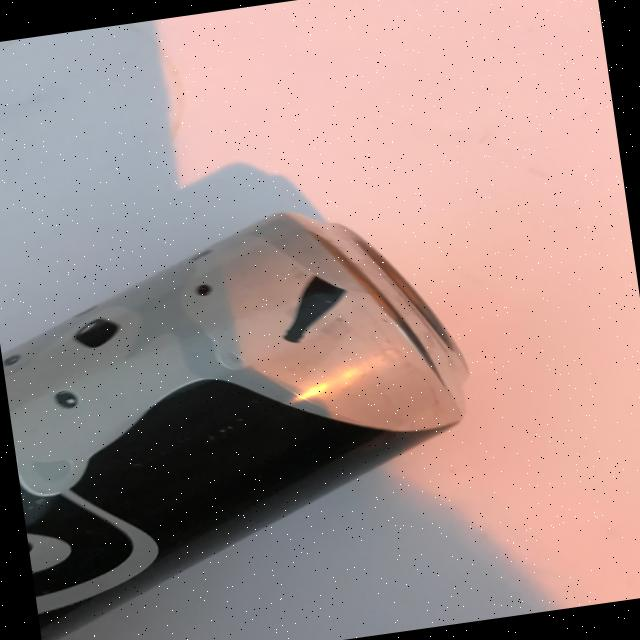metal: (0, 187, 497, 627)
